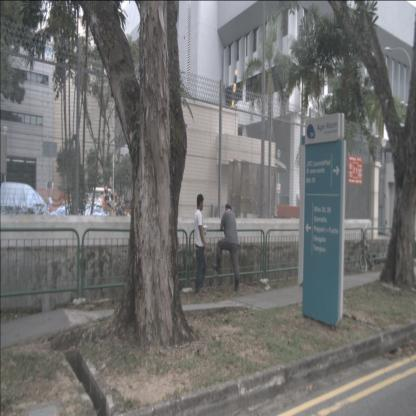cone: (48, 204, 54, 220), (60, 196, 64, 209)
